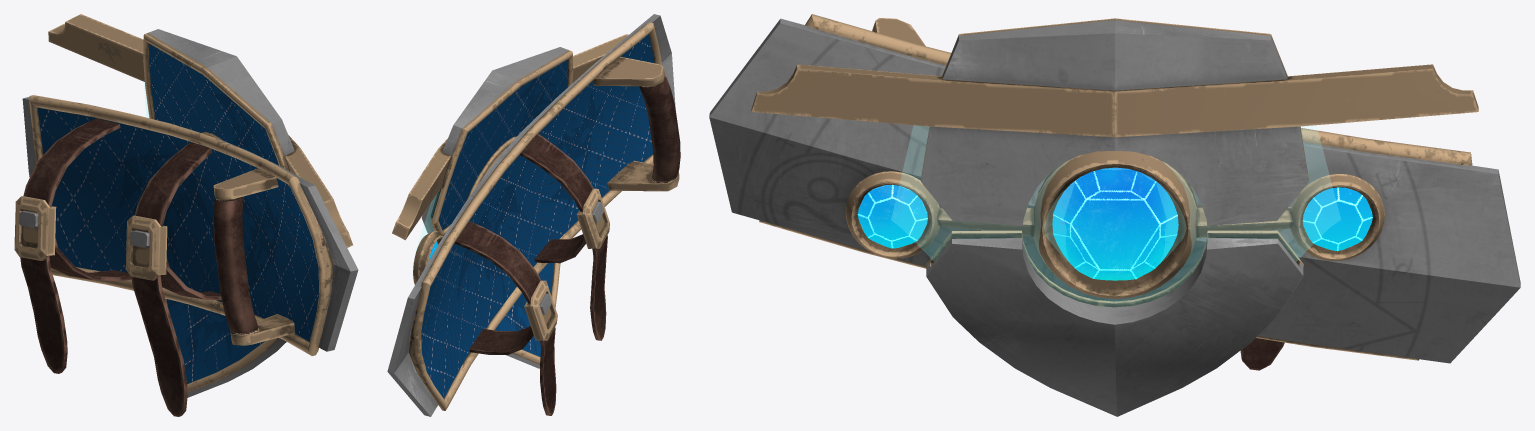
The model's file is Shield.glb.
3 views of the same model, side by side, from view 1: azimuth 30°, elevation 25°; view 2: azimuth 150°, elevation 25°; view 3: azimuth 270°, elevation 25° (orthographic). The views are drawn at different scales.
Parts seen in each view (by area): view 1: Base, Plane; view 2: Base, Plane; view 3: Plane, Base.
Boxes of the visible parts, <box> form: Base: <box>14,95,358,416</box>; Plane: <box>48,14,352,397</box>; Base: <box>387,14,680,416</box>; Plane: <box>392,34,628,368</box>; Plane: <box>751,18,1478,416</box>; Base: <box>709,14,1520,370</box>.
Bounding box in the file's own units: 1.4 × 2.73 × 4.82.
3 materials, 2 textured.
